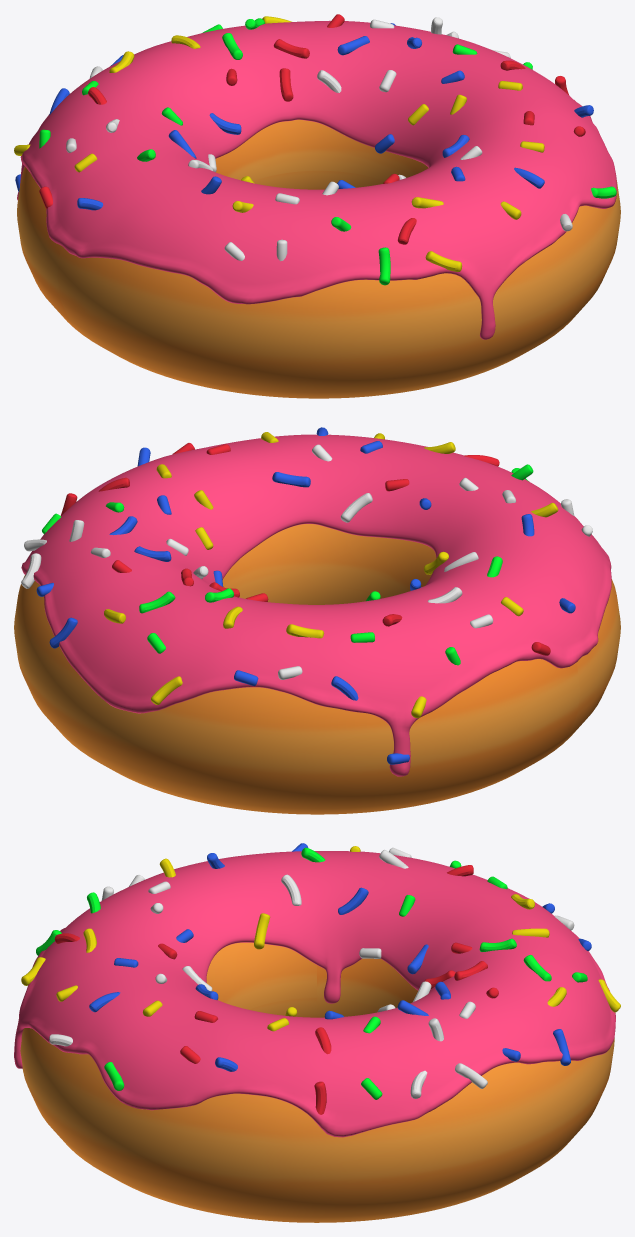
File: pinkdonut.glb
3 views of the same model, one above another, from view 1: azimuth 30°, elevation 25°; view 2: azimuth 150°, elevation 25°; view 3: azimuth 270°, elevation 25° (orthographic).
Parts seen in each view (by area): view 1: donut_icing, donut; view 2: donut_icing, donut; view 3: donut_icing, donut.
Part boxes in pixels (x1,y1,x2,y2): donut_icing: [17, 20, 617, 339]; donut: [17, 119, 620, 398]; donut_icing: [21, 434, 611, 776]; donut: [14, 524, 620, 814]; donut_icing: [14, 851, 615, 1137]; donut: [20, 942, 614, 1222].
Size of the model in its own units: 2.77 by 1.03 by 2.82.
8 materials, 1 textured.
